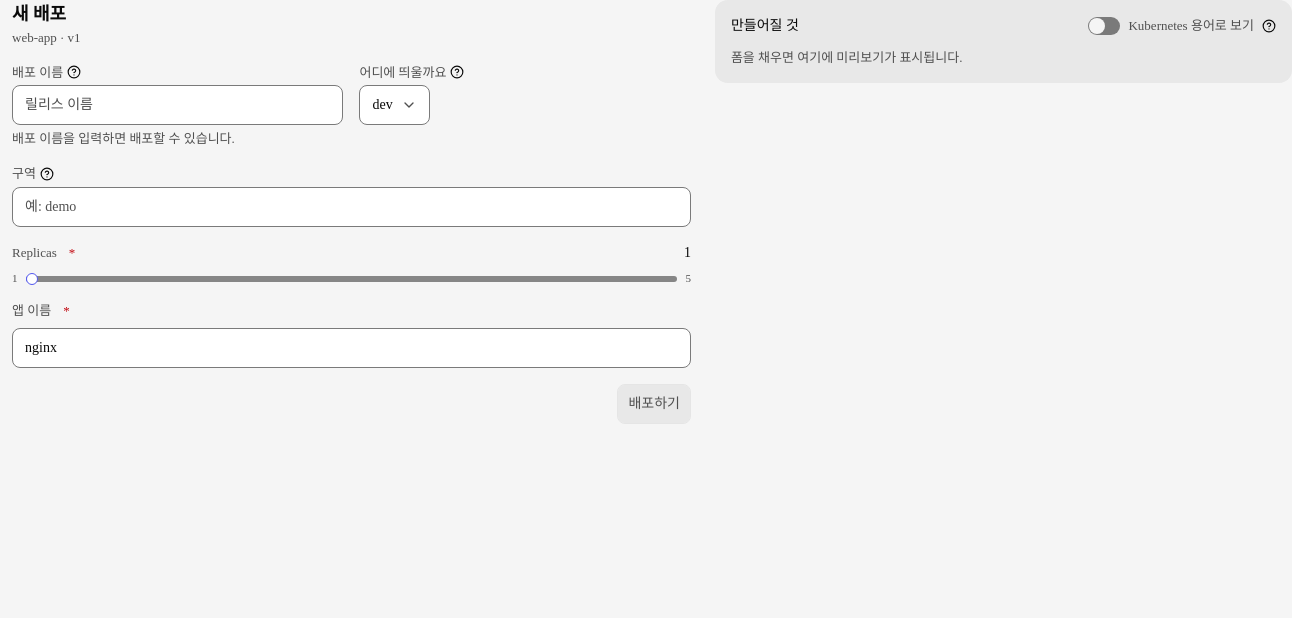
it: DeployClient › clears a previous failure when the user edits a form field
Type "my-app" into the field labelled "배포 이름" at (178, 105), box x1=12 y1=85 x2=344 y2=125
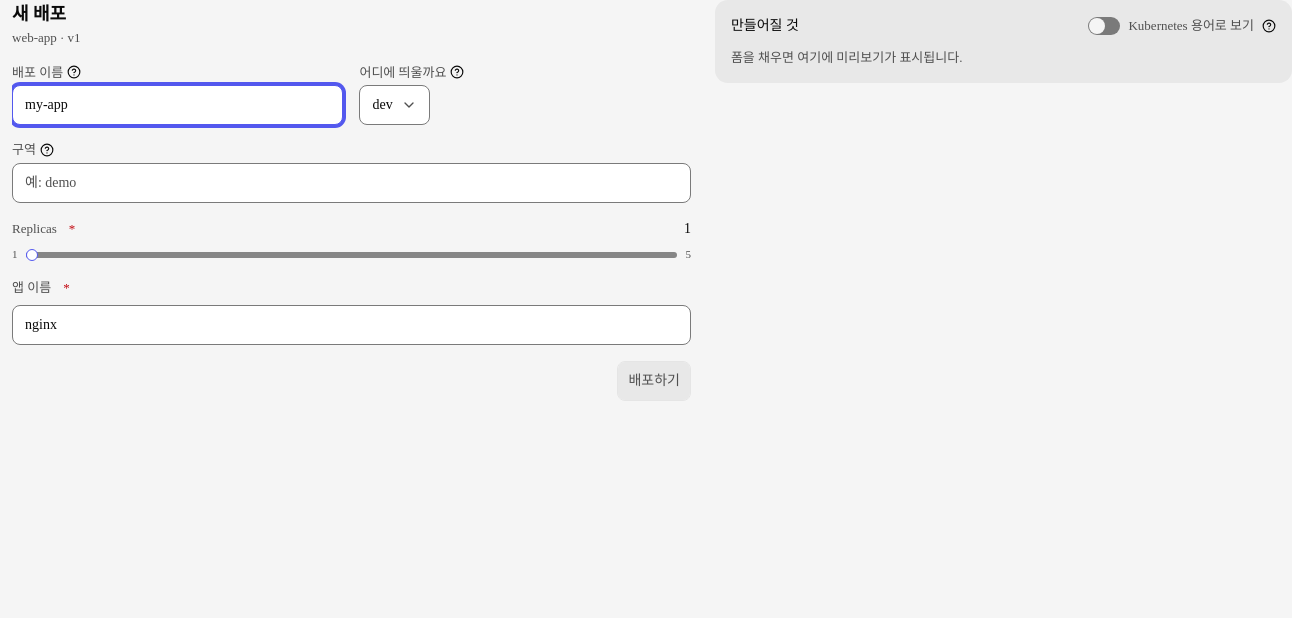
Type "default" into the field labelled "구역" at (351, 183), box x1=12 y1=163 x2=691 y2=203
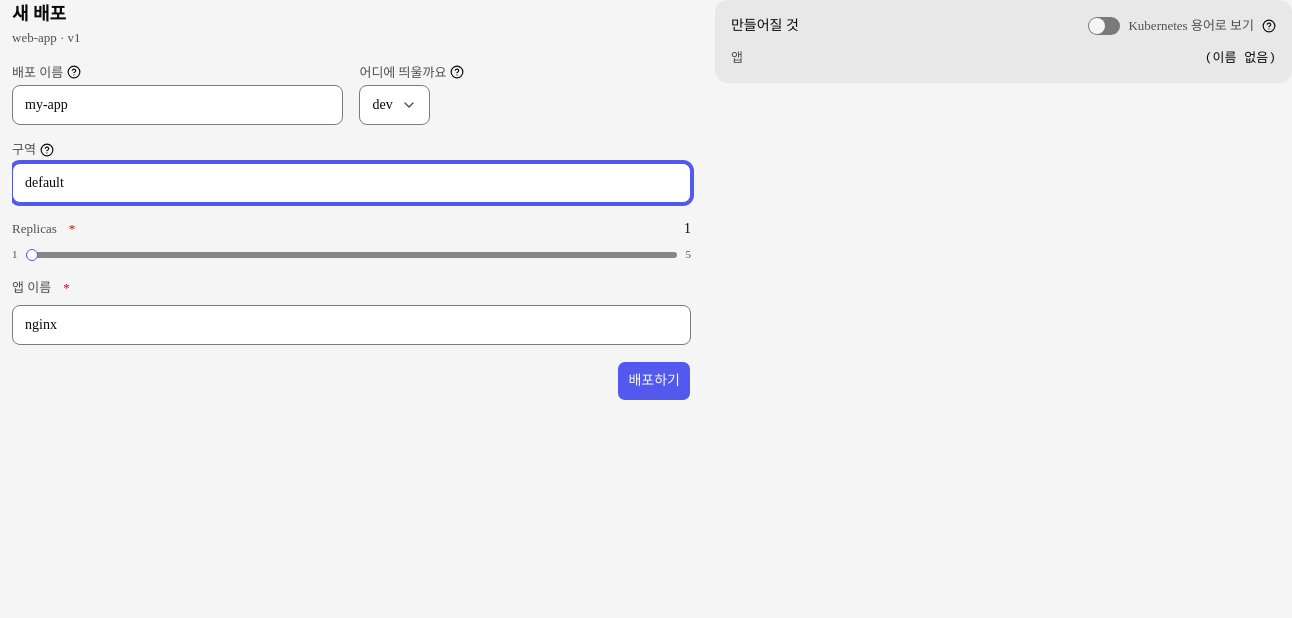
Result: the button "배포하기" is enabled
Click the button "배포하기" at (654, 381), box x1=617 y1=361 x2=691 y2=401
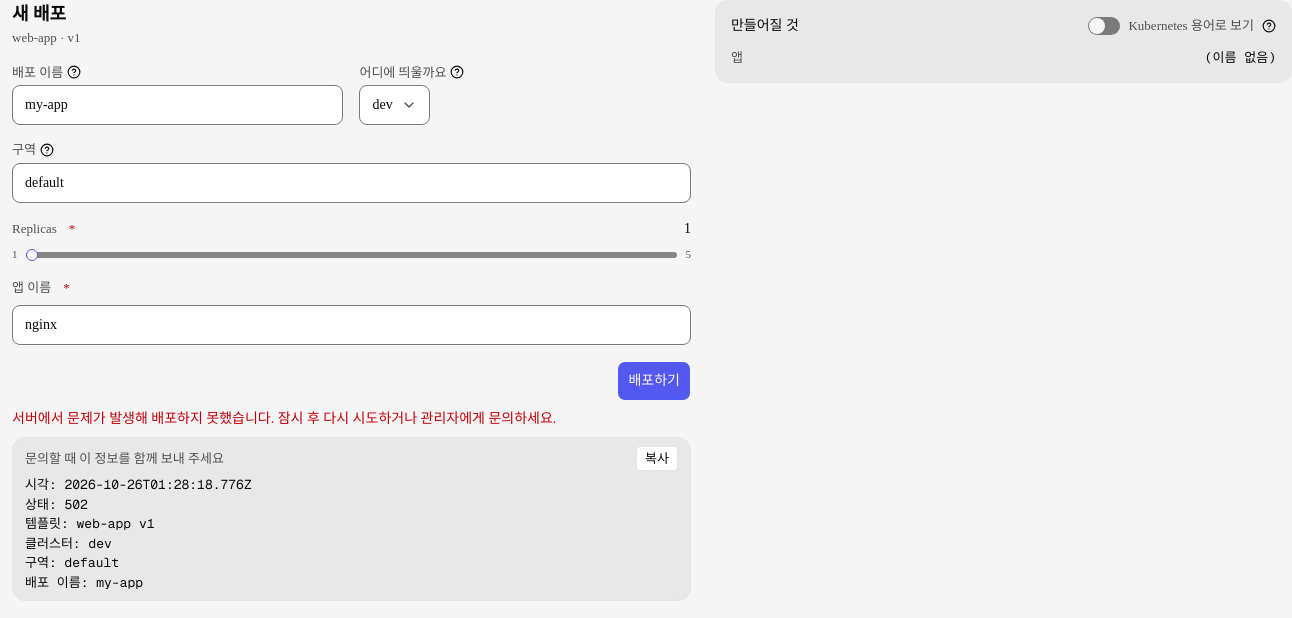
Result: the message is shown at x1=12 y1=409 x2=691 y2=601
Type "-2" into the field labelled "앱 이름 *" at (351, 325), box x1=12 y1=305 x2=691 y2=345
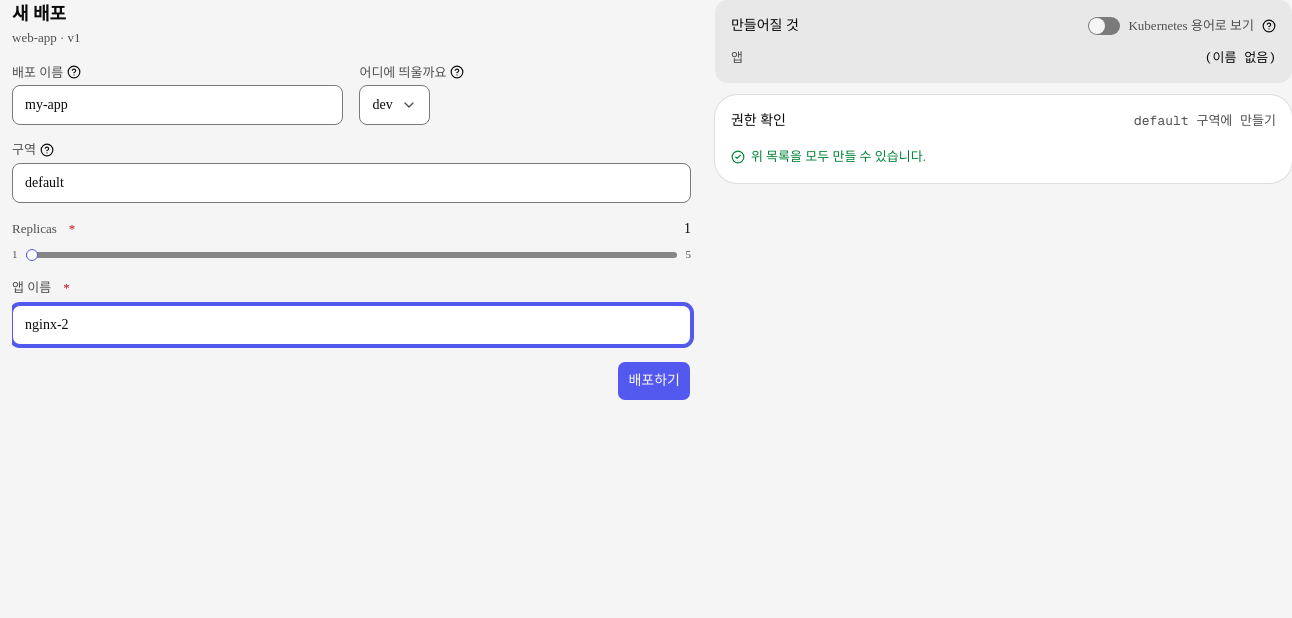
Result: the message is gone
